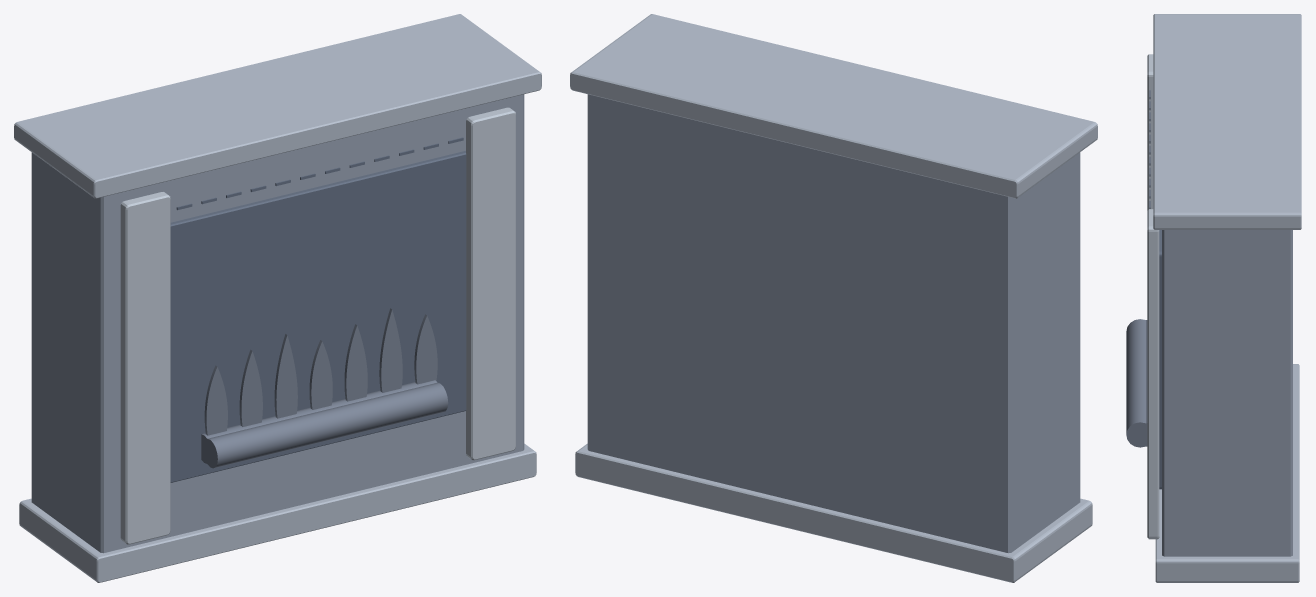
The model's file is electric-fireplace-lite.glb.
3 views of the same model, side by side, from view 1: azimuth 30°, elevation 25°; view 2: azimuth 150°, elevation 25°; view 3: azimuth 270°, elevation 25° (orthographic). The views are drawn at different scales.
Visible parts, largest first — view 1: body, dark, soft, light, accent; view 2: body, soft; view 3: body, soft, light, accent, dark.
Boxes of the visible parts, x1=… form: body: x1=31, y1=94, x2=524, y2=553; dark: x1=170, y1=137, x2=466, y2=482; soft: x1=14, y1=14, x2=541, y2=582; light: x1=120, y1=107, x2=515, y2=544; accent: x1=201, y1=308, x2=448, y2=468; body: x1=587, y1=94, x2=1080, y2=553; soft: x1=570, y1=14, x2=1097, y2=582; body: x1=1162, y1=230, x2=1292, y2=556; soft: x1=1153, y1=14, x2=1301, y2=582; light: x1=1147, y1=54, x2=1159, y2=539; accent: x1=1126, y1=319, x2=1147, y2=447; dark: x1=1149, y1=90, x2=1161, y2=489.
Size of the model in its own units: 1.09 by 0.9405 by 0.402.
